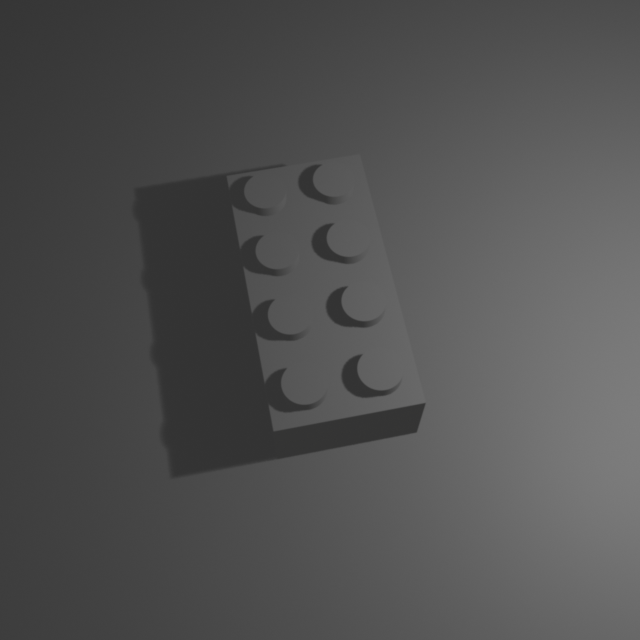lego_2x4: (225, 146, 428, 459)
